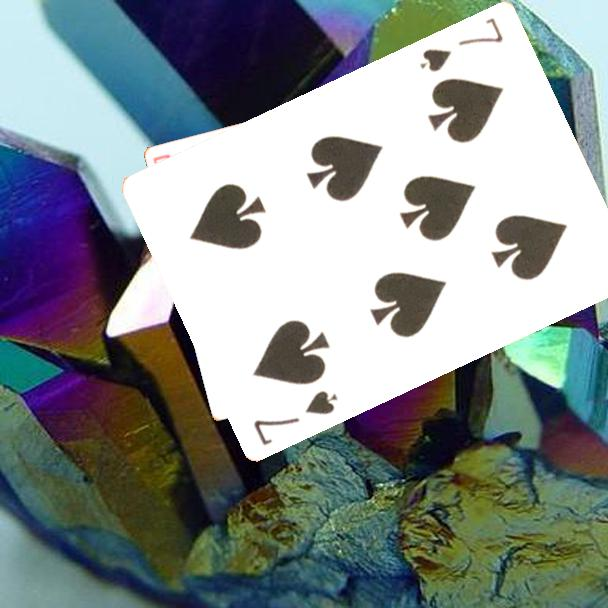s07: (250, 386, 342, 448), (416, 13, 507, 75)
